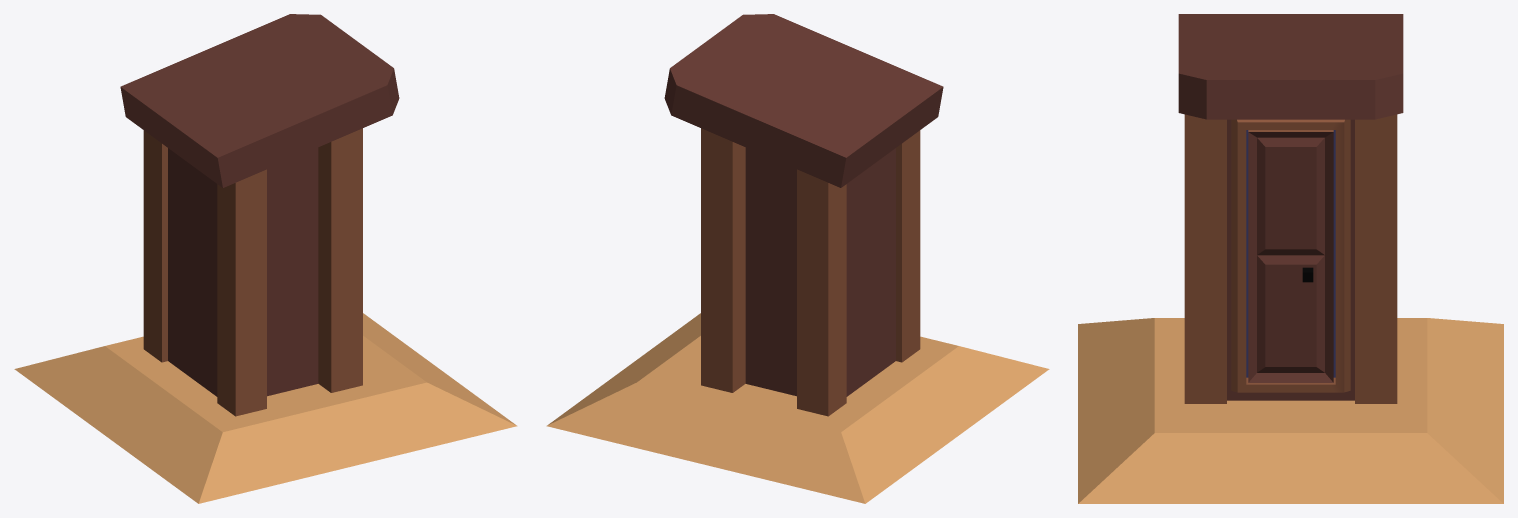
The model's file is Toilet.fbx.
3 renders of one model, left to right at view 1: azimuth 30°, elevation 25°; view 2: azimuth 150°, elevation 25°; view 3: azimuth 270°, elevation 25°, orthographic. The views are drawn at different scales.
Parts seen in each view (by area): view 1: Toilet; view 2: Toilet; view 3: Toilet.
Part boxes in pixels (x1=…): Toilet: x1=14, y1=14, x2=517, y2=503; Toilet: x1=546, y1=14, x2=1049, y2=503; Toilet: x1=1078, y1=14, x2=1503, y2=503.
Bounding box in the file's own units: 1 × 0.9994 × 1.
